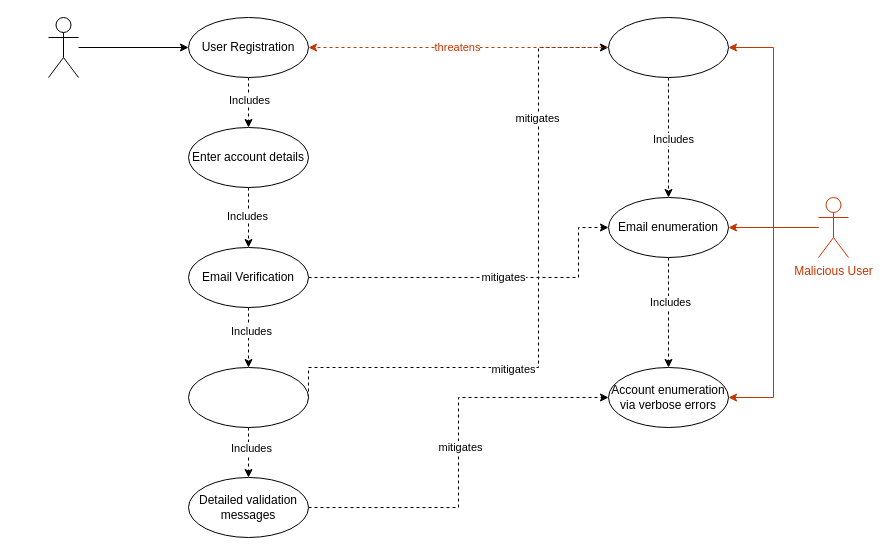
Some shapes in this 890 by 555 pixel diagram are drawn without their labels. Here are the shapes that lost their labels. From the top down, the box of each, then its label:
(48, 16, 78, 78): Anonymous User
(608, 16, 728, 78): Information Disclosure
(188, 366, 308, 428): Rate limit and lockout
